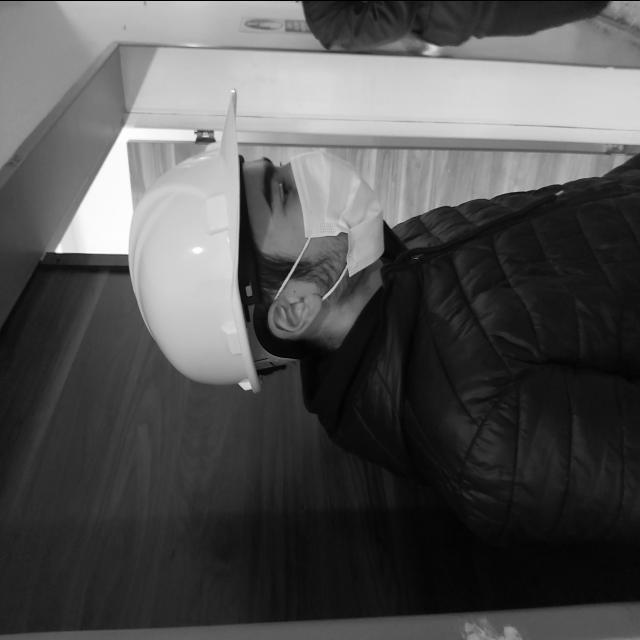safety_helmet: (133, 98, 262, 390)
